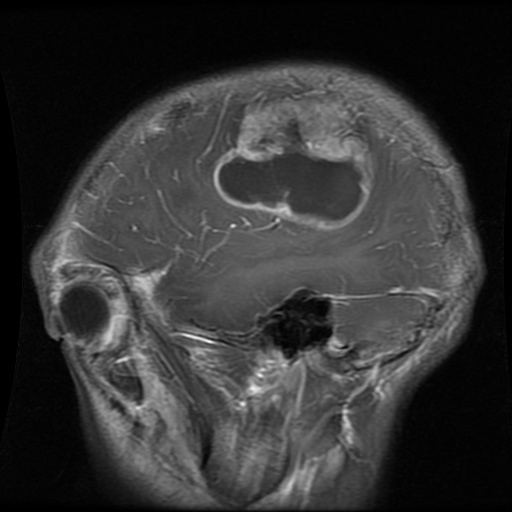glioma: (211, 95, 376, 232)
